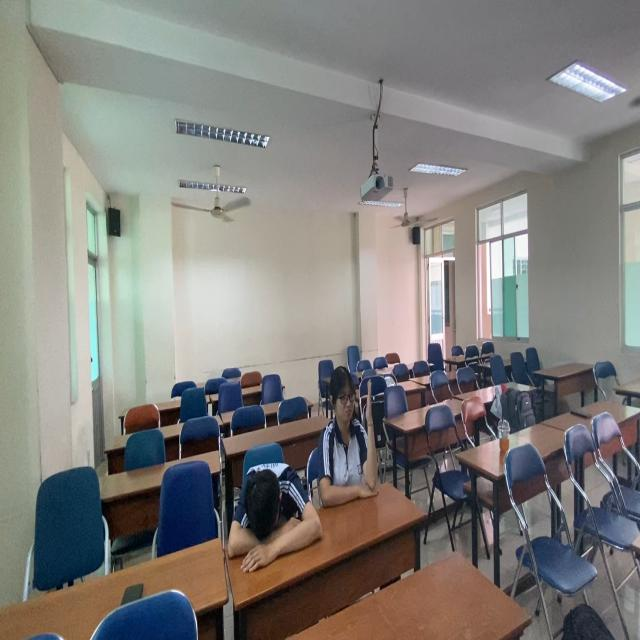raise_hand: (321, 369, 381, 503)
sleep: (225, 463, 324, 562)
